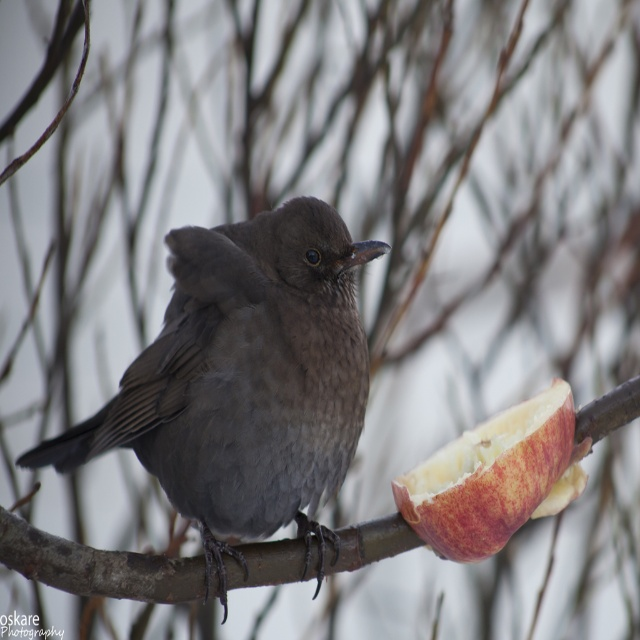Sparrow: (15, 196, 392, 626)
